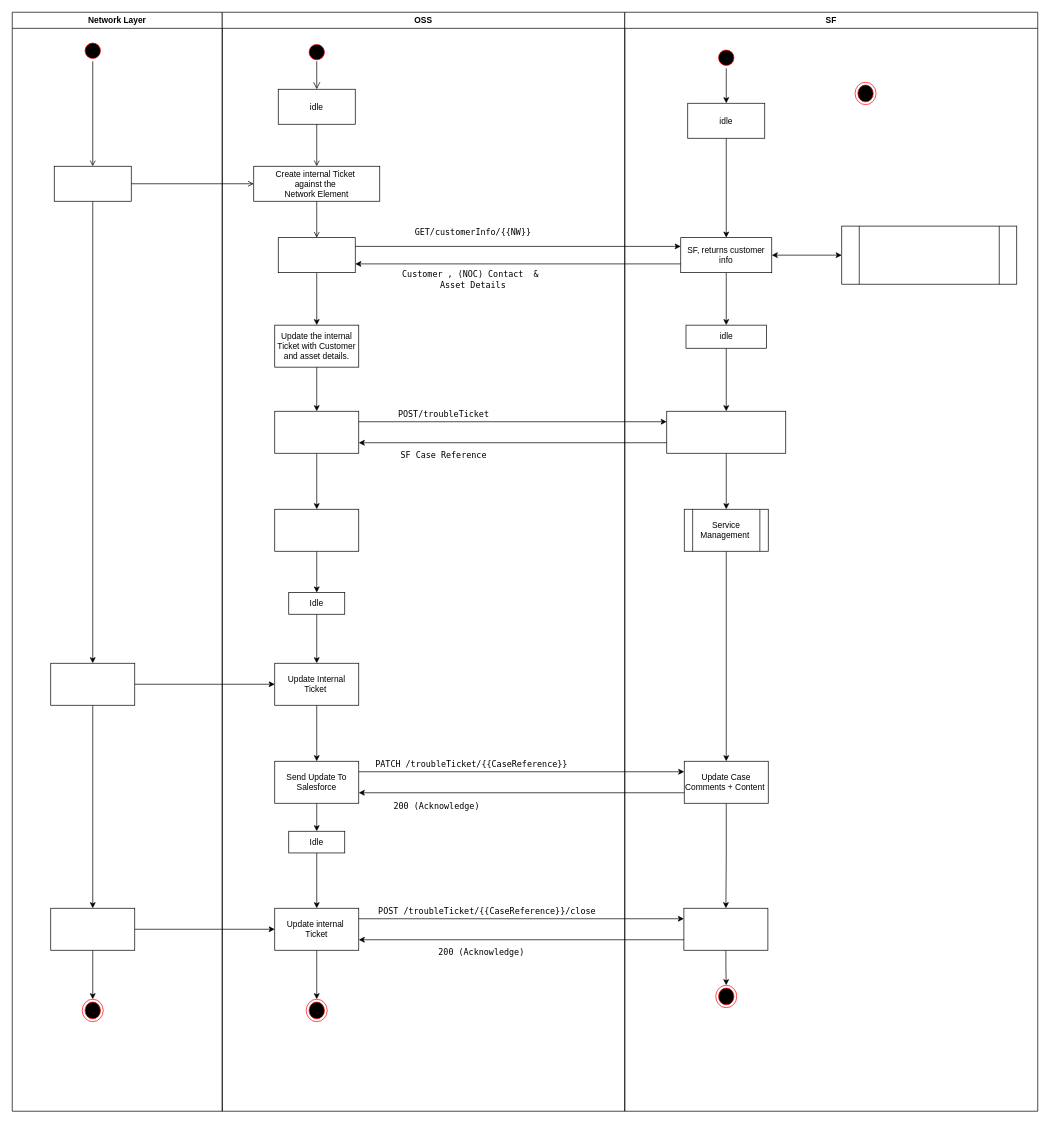
Image size: 1050x1124. Some labels were removed from this diagram. The centre of each missing label's shape, as x and y in pixels:
"Call Customer Info Request." belongs at point (316, 255).
"Check Network details against asset Get Customer + NOC Contact" belongs at point (929, 254).
"Close Ticket." belongs at point (725, 929).
"Create Case, tied to the (NOC) contact and Customer Details." belongs at point (726, 432).
"Save the SF Case Reference aginst internal Ticket." belongs at point (316, 530).
"Send Crate Ticket Request" belongs at point (316, 432).
"Service Disruption" belongs at point (92, 183).
"Service further downgrade" belongs at point (92, 684).
"Service restored" belongs at point (92, 929).
